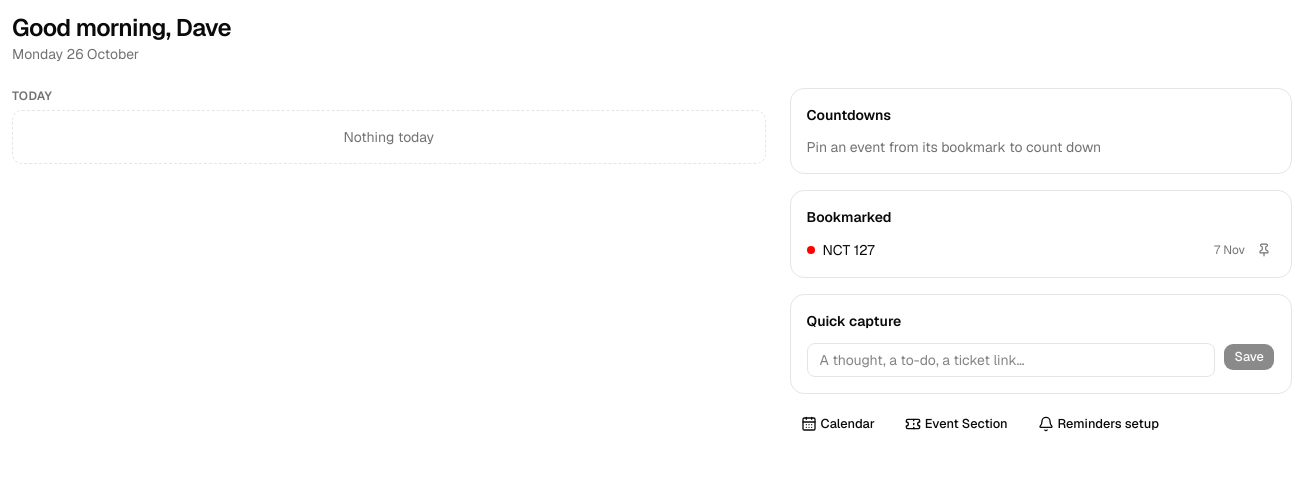
Test: HomeDashboard › pins a bookmark as a countdown
Click the button named "Pin countdown for NCT 127" at (1264, 250), box [1253, 239, 1275, 261]
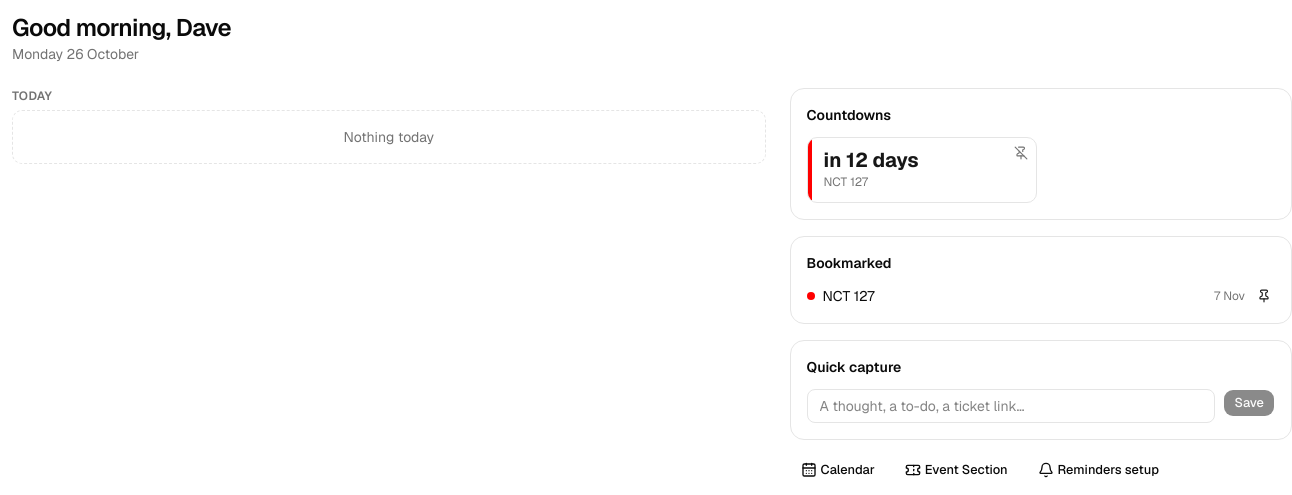
Expected: the list item with test id "countdown-tile" is shown, [807, 137, 1037, 203]
